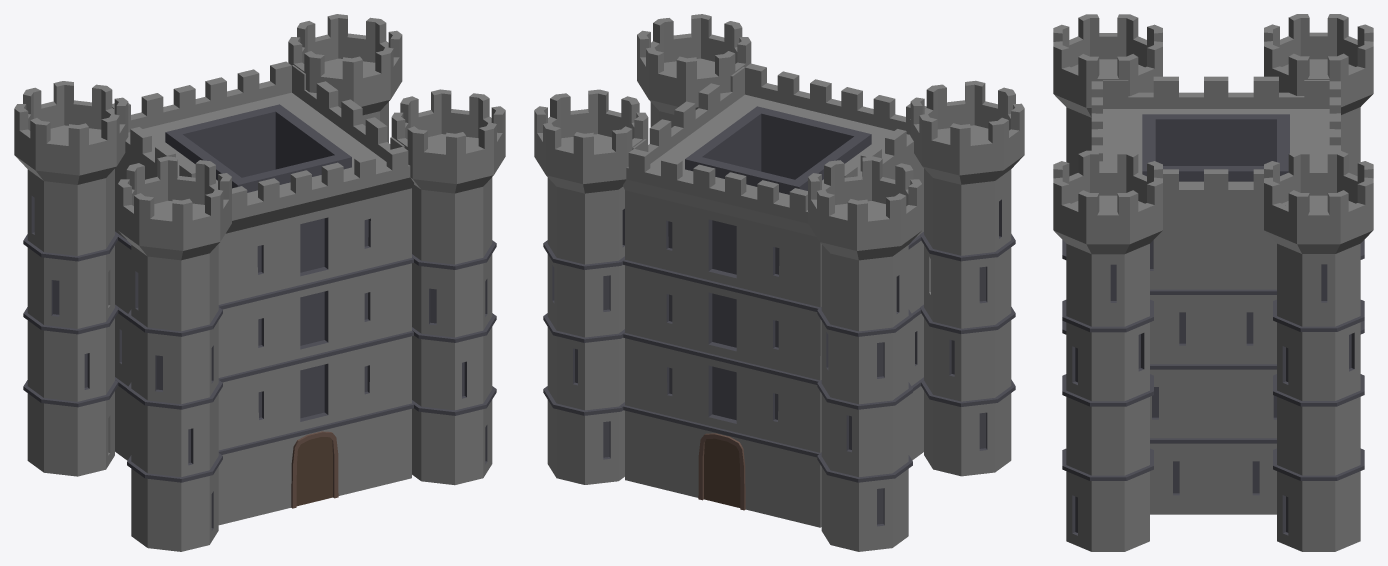
File: aeuJiuWdknv.glb
3 views of the same model, side by side, from view 1: azimuth 30°, elevation 25°; view 2: azimuth 150°, elevation 25°; view 3: azimuth 270°, elevation 25° (orthographic). The views are drawn at different scales.
Parts seen in each view (by area): view 1: SM_Castle; view 2: SM_Castle; view 3: SM_Castle.
Boxes of the visible parts, bbox=[...] form: SM_Castle: bbox=[14, 14, 505, 551]; SM_Castle: bbox=[534, 14, 1024, 551]; SM_Castle: bbox=[1053, 14, 1373, 551].
Size of the model in its own units: 1.09 by 1 by 0.8046.
